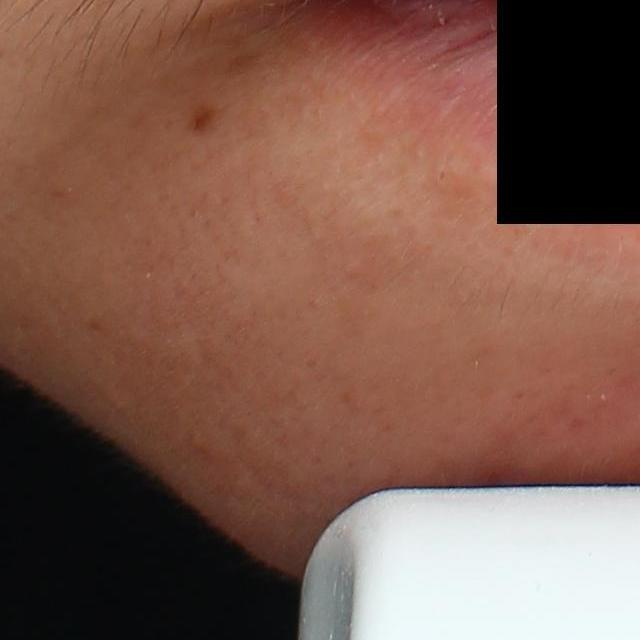nevus: (184, 101, 221, 139)
